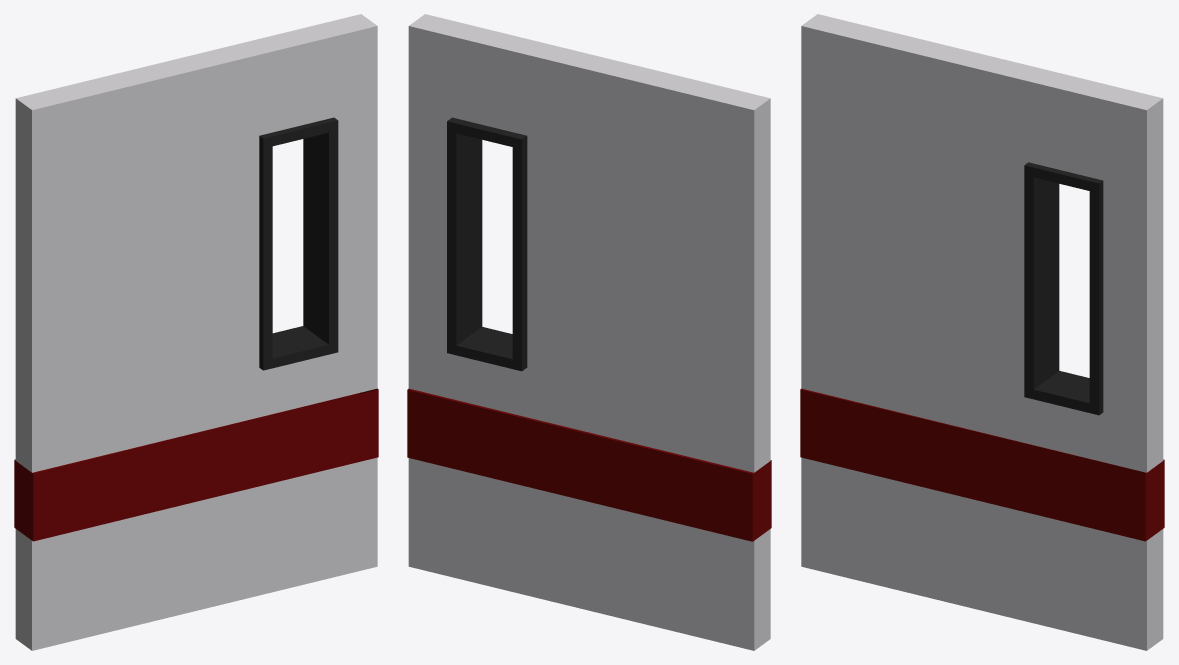
File: door.fbx
The picture shows the model from 3 angles, left to right: view 1: azimuth 30°, elevation 25°; view 2: azimuth 150°, elevation 25°; view 3: azimuth 330°, elevation 25°; orthographic projection.
Parts seen in each view (by area): view 1: kapı; view 2: kapı; view 3: kapı.
Part boxes in pixels (x1,y1,x2,y2): kapı: (14,14,378,650); kapı: (407,14,771,650); kapı: (800,14,1164,650).
Size of the model in its own units: 200 by 299 by 25.82.
